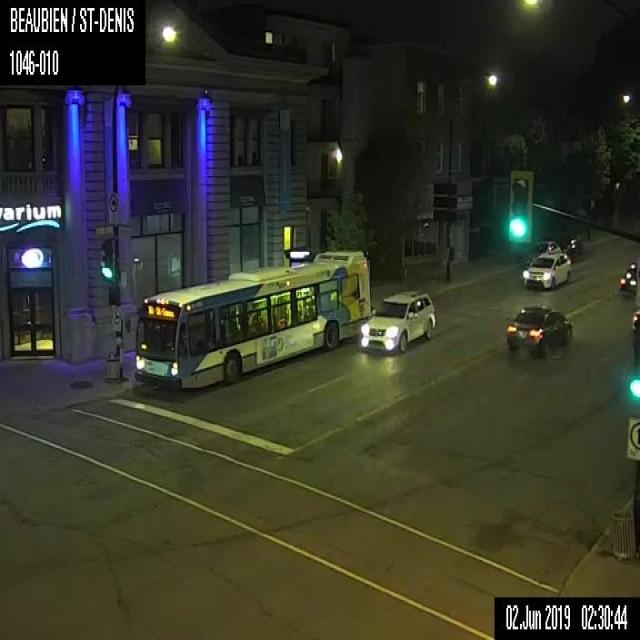bus: (124, 247, 371, 388)
vehicle: (360, 288, 434, 351), (504, 303, 574, 356), (521, 252, 571, 289), (520, 239, 560, 267), (617, 258, 639, 298), (558, 233, 582, 258)
